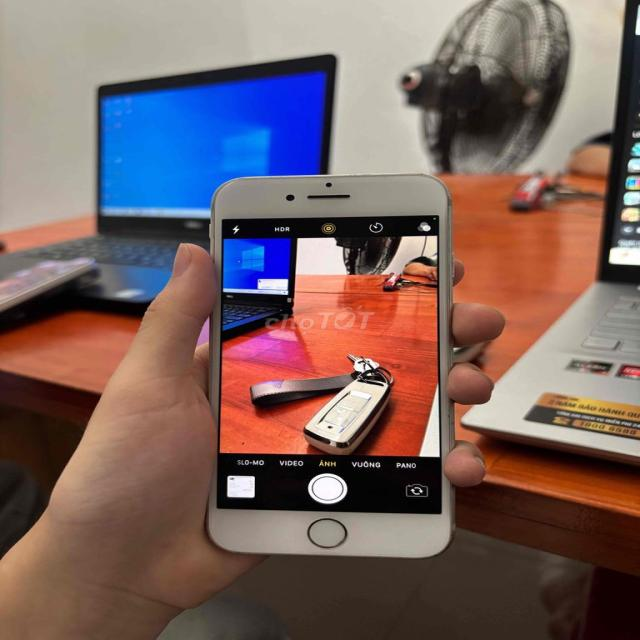gen_7_8: (192, 161, 462, 565), (445, 410, 458, 427)
scratch: (342, 172, 424, 180), (202, 200, 218, 211), (442, 195, 454, 208)
